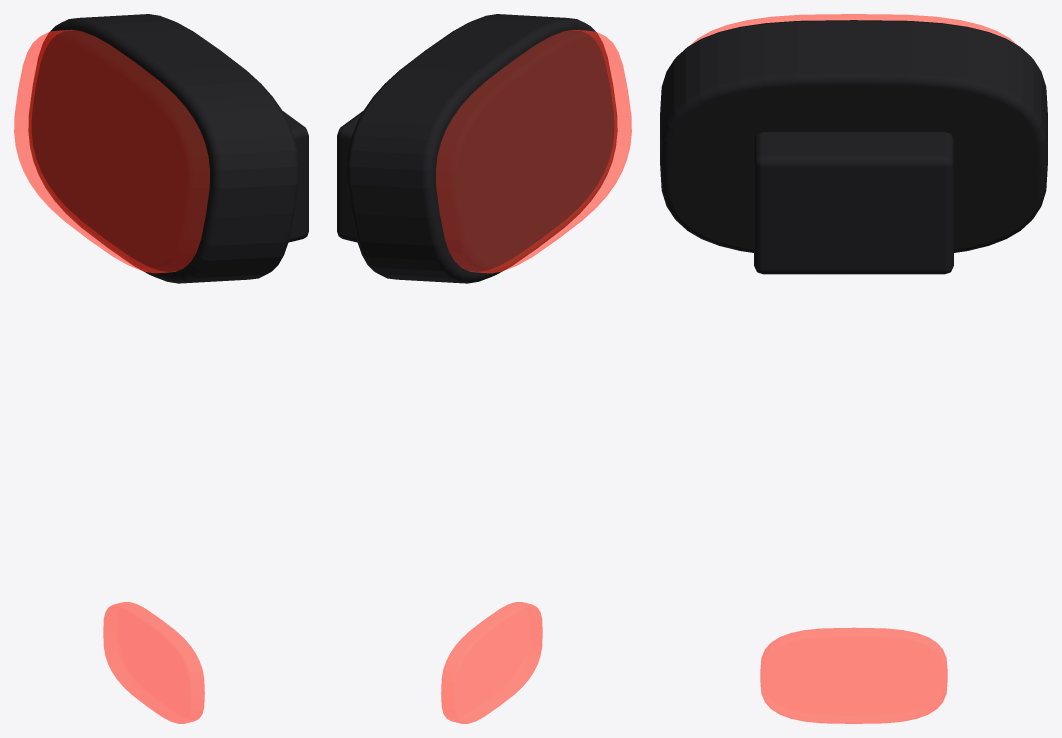
File: bike_boda_boda__tail_light.glb
3 views of the same model, side by side, from view 1: azimuth 30°, elevation 25°; view 2: azimuth 150°, elevation 25°; view 3: azimuth 270°, elevation 25° (orthographic). The views are drawn at different scales.
Visible parts, largest first — view 1: electrical__tail_light, electrical__tail_light__lens, electrical__tail_light__reflector; view 2: electrical__tail_light, electrical__tail_light__lens, electrical__tail_light__reflector; view 3: electrical__tail_light, electrical__tail_light__reflector, electrical__tail_light__lens.
Boxes of the visible parts, left/top/right/bottom form: electrical__tail_light: left=28, top=14, right=308, bottom=283; electrical__tail_light__lens: left=14, top=30, right=209, bottom=273; electrical__tail_light__reflector: left=103, top=602, right=204, bottom=723; electrical__tail_light: left=337, top=14, right=617, bottom=283; electrical__tail_light__lens: left=436, top=30, right=631, bottom=273; electrical__tail_light__reflector: left=441, top=602, right=542, bottom=723; electrical__tail_light: left=660, top=20, right=1047, bottom=274; electrical__tail_light__reflector: left=760, top=627, right=947, bottom=723; electrical__tail_light__lens: left=691, top=14, right=1016, bottom=44.
Size of the model in its own units: 6.96 by 24.51 by 12.4.
